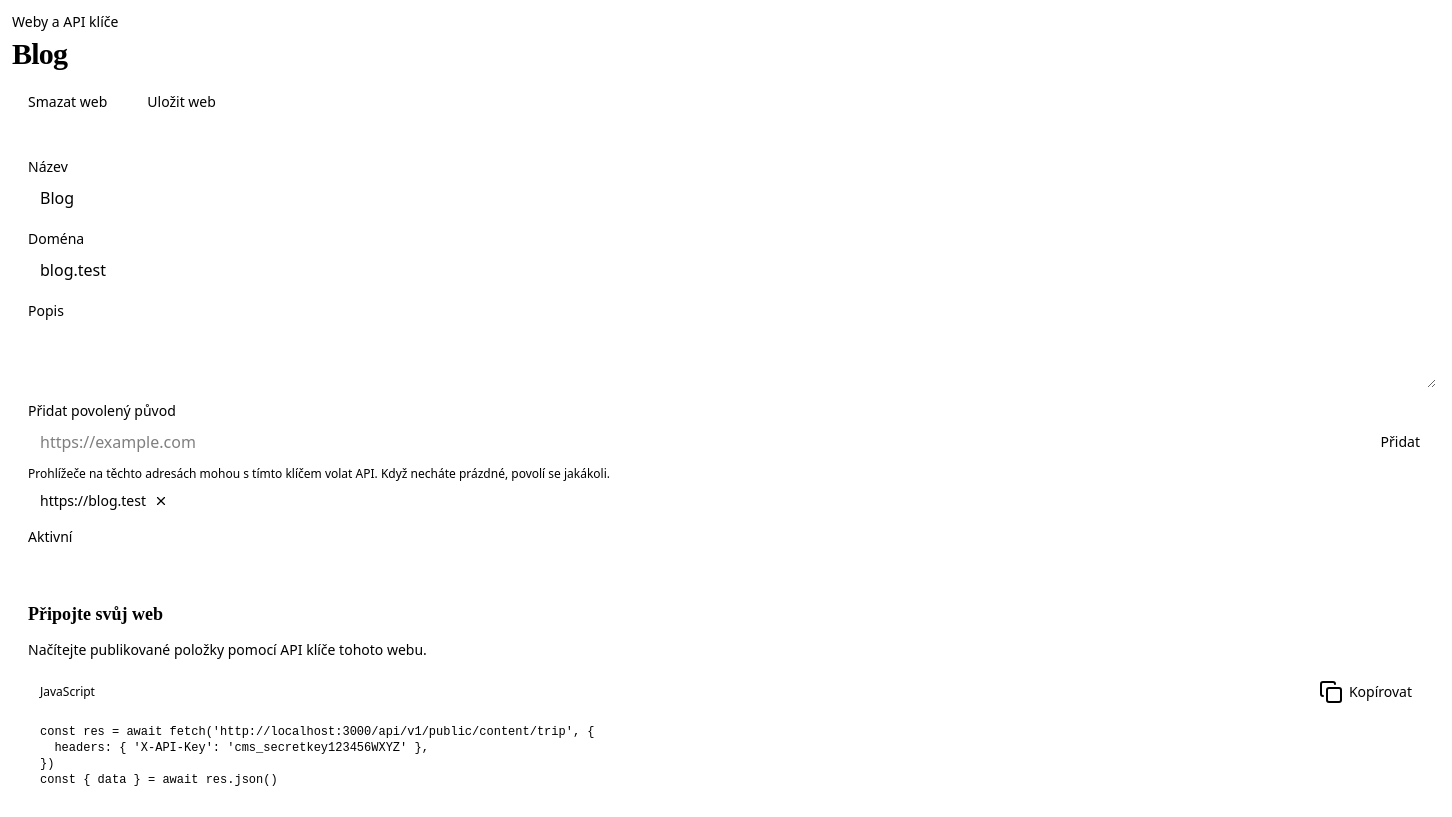
in Czech › keeps a server validation message as sent
Step 1. Type "https://x.test" into the field labelled "Přidat povolený původ" → (692, 442), box [28,424,1357,460]
Then press Enter
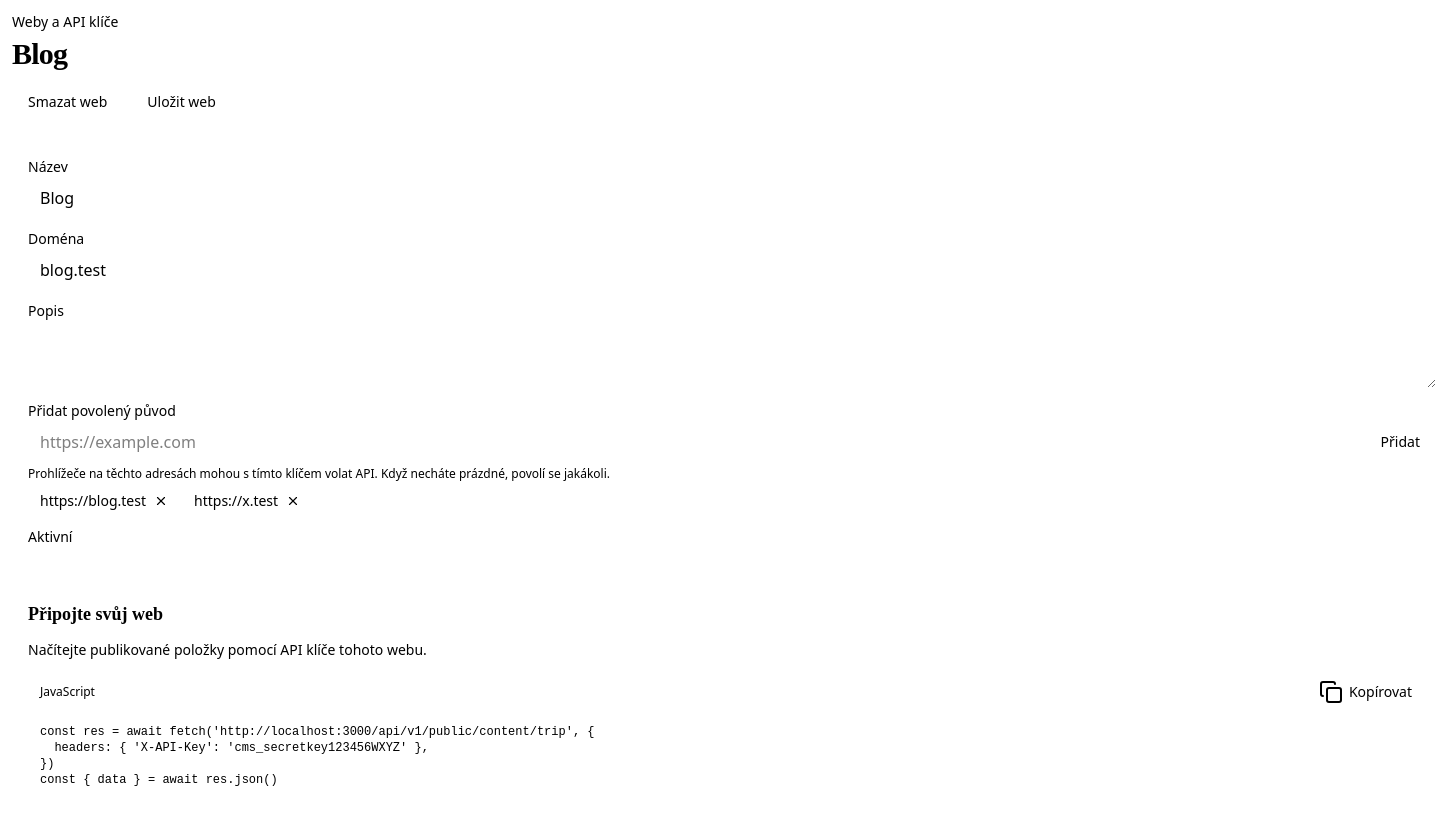
Step 2. Click the button "Uložit web" → (182, 102), box [131,84,232,120]
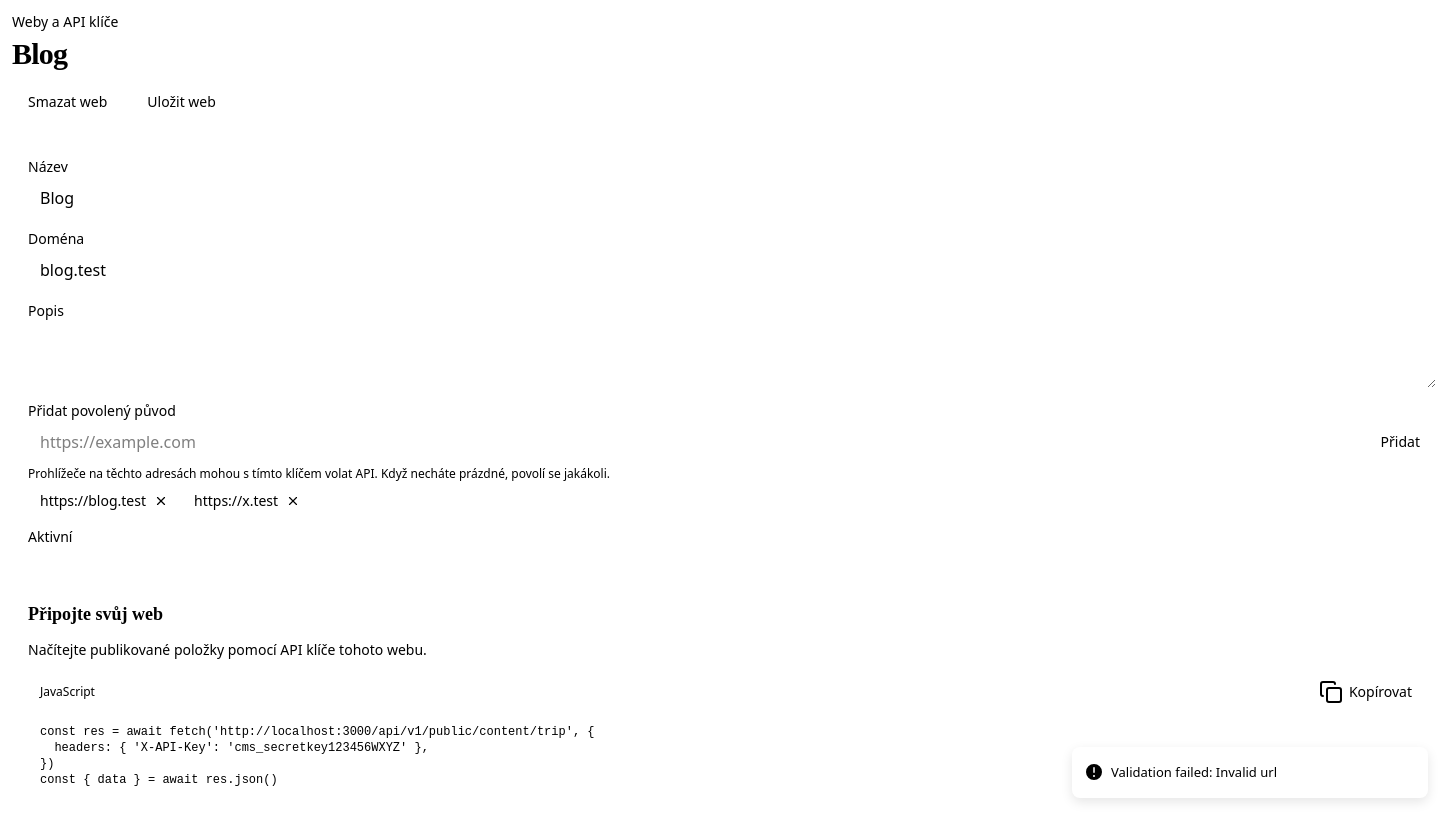
expect the text "Validation failed: Invalid url" is shown: met, box [1111,762,1277,782]
